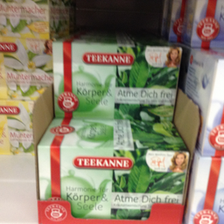tea: (37, 119, 191, 219), (53, 37, 183, 119)
